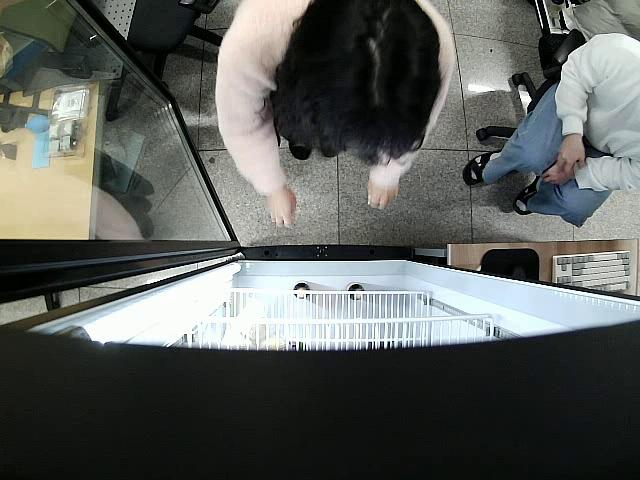00_hand: (266, 188, 298, 228), (366, 177, 401, 213)
